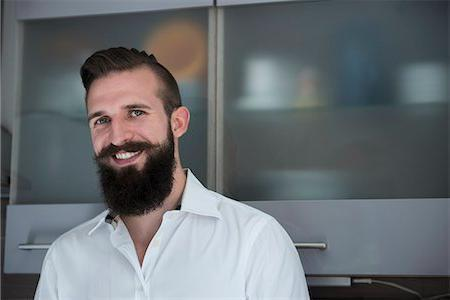Sober: (88, 79, 167, 180)
